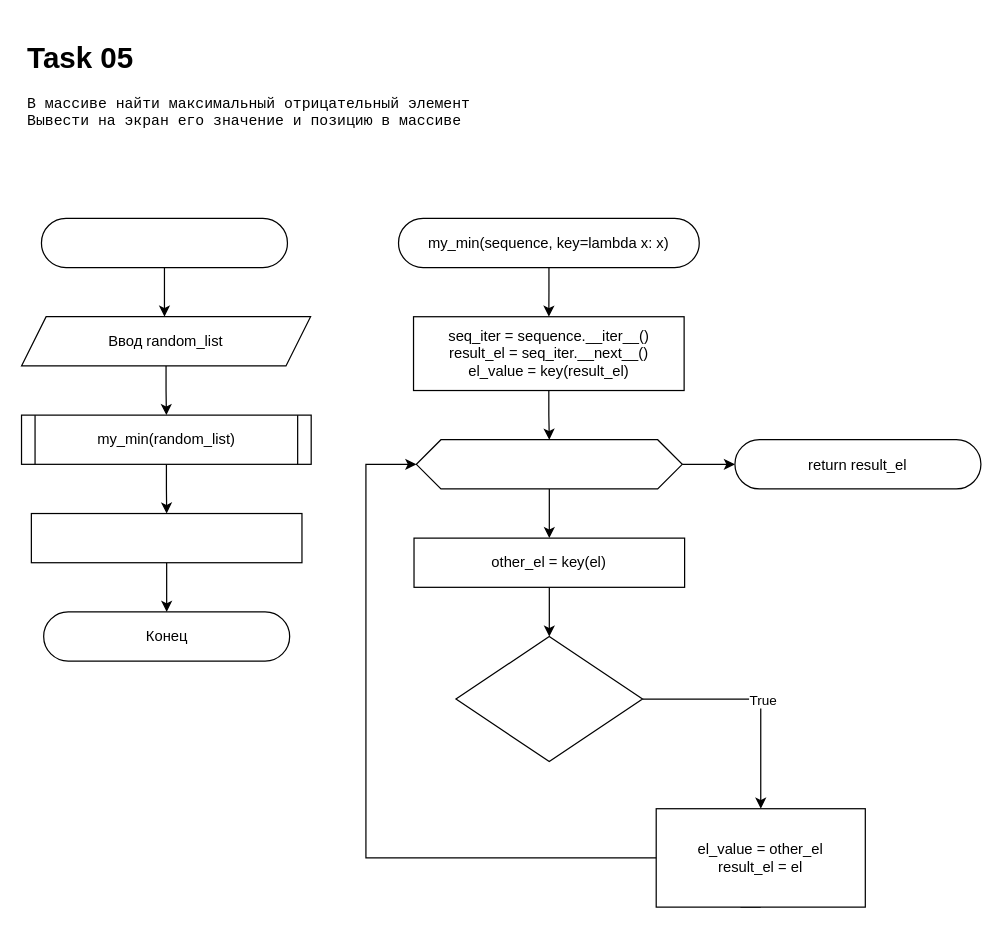
This 1002x938 diagram has some shape labels left out. Here are the shapes that lost their labels. From the top down, the box of each, then its label:
(40, 217, 287, 268): Начало
(415, 438, 682, 489): for el in seq_iter
(30, 512, 302, 563): random_list.index(min_el)
(455, 635, 643, 762): if other_el > el_value
